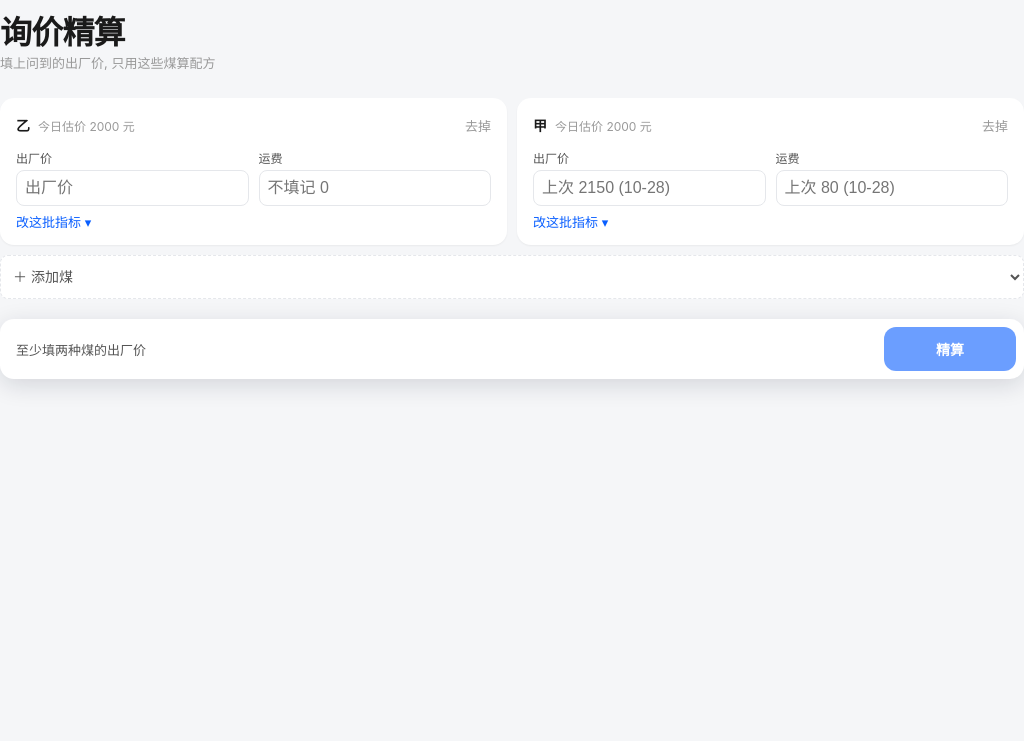
Test case: 无基准时不把本批报价反推的 fair 和 gap 当作估价对比
Expected: the dropdown named "添加煤" is shown, [0,255,1023,299]
Type "2150" into the field named "甲 出厂价" at (649, 188), box [533,170,766,206]
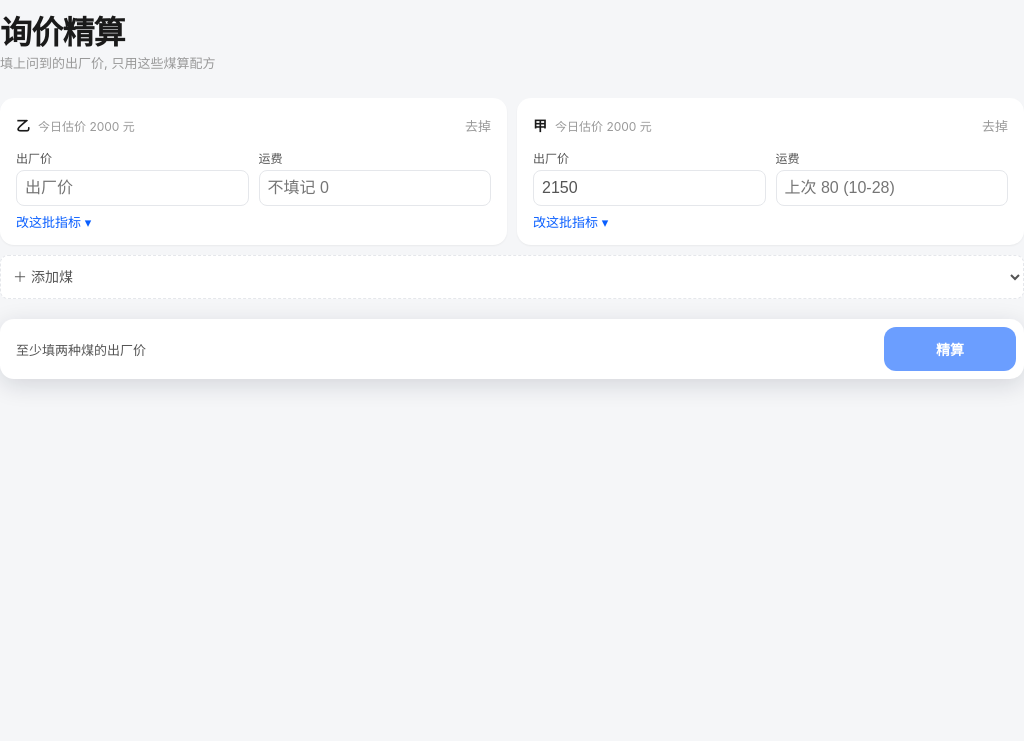
Type "1980" into the field named "乙 出厂价" at (132, 188), box [16,170,248,206]
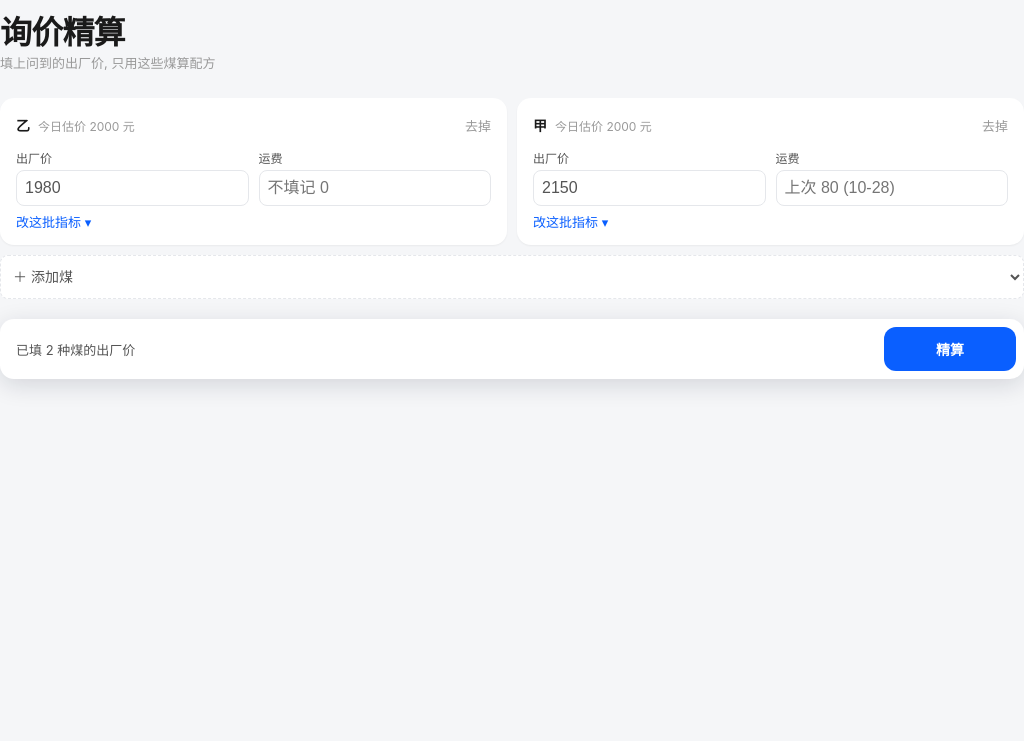
Click the button "精算" at (950, 349), box [884,327,1016,371]
(page scrolled)
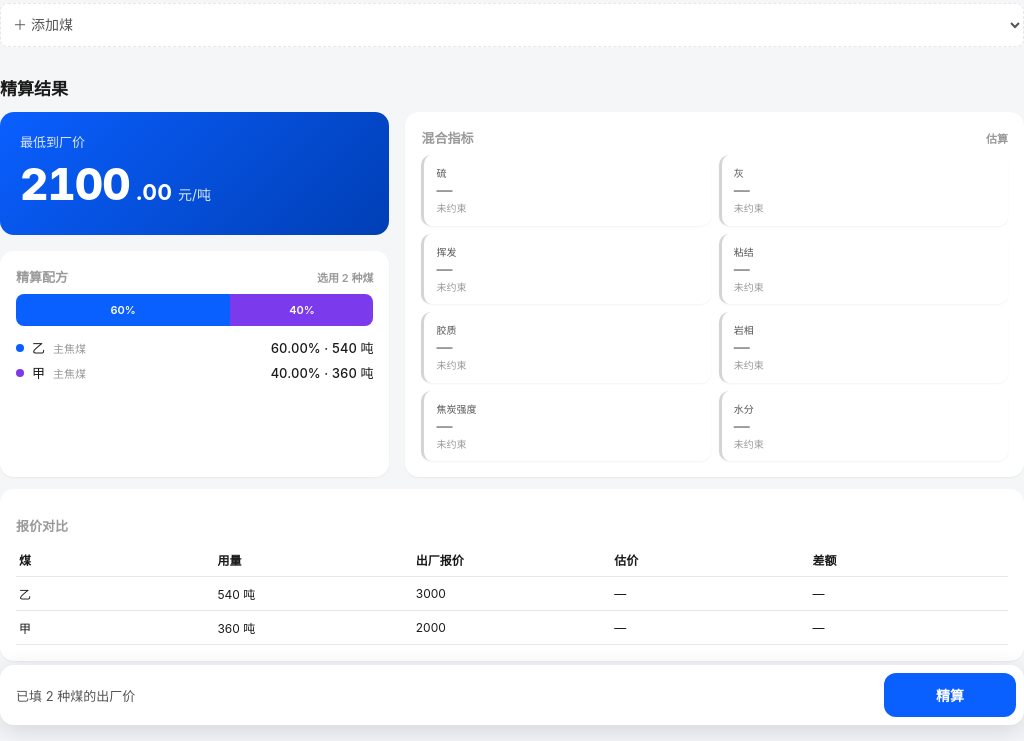
Expected: the text "2000" is shown, [413,610,611,644]
Expected: the text "3000" is shown, [413,576,611,610]
Expected: the text "—" is shown 4 times, [611,576,810,610]; [810,576,1008,610]; [611,610,810,644]; [810,610,1008,644]
